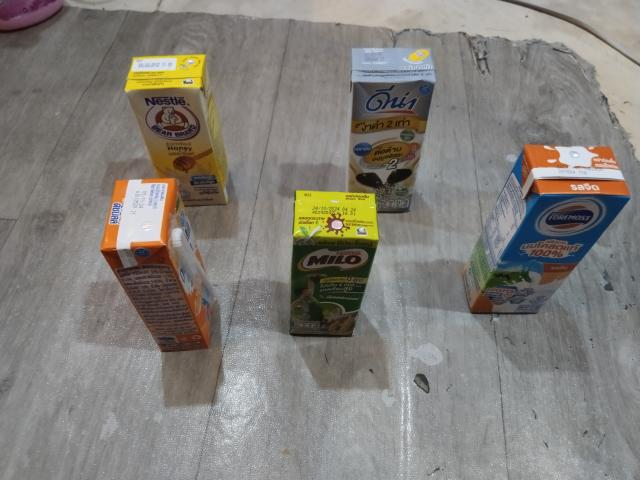drink_box: (458, 128, 640, 324), (88, 176, 221, 362), (120, 51, 241, 192), (347, 38, 439, 208), (286, 186, 376, 344)
